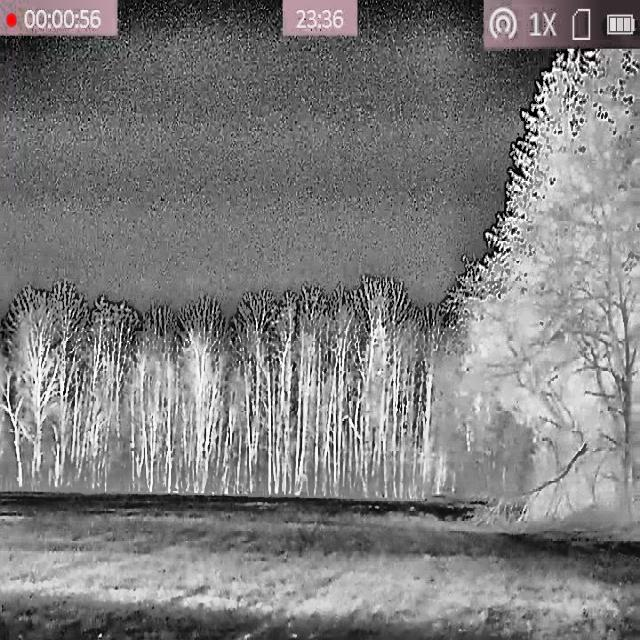drone: (377, 366, 383, 376)
